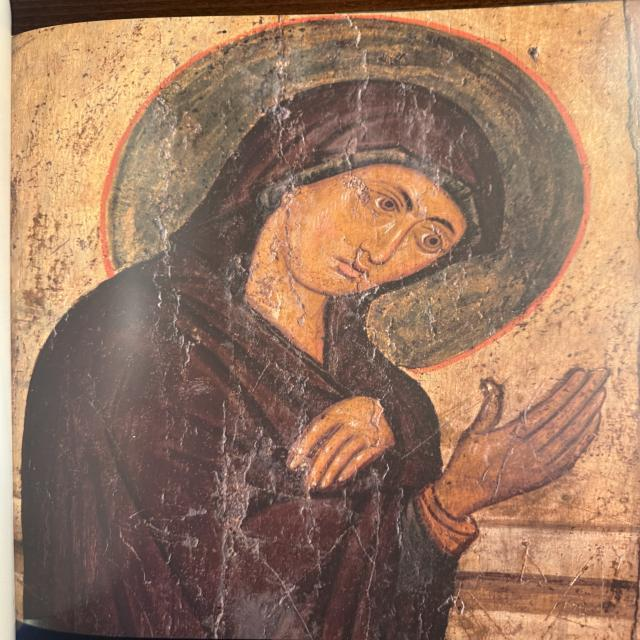aura: (100, 18, 596, 374)
saint: (27, 67, 620, 640)
